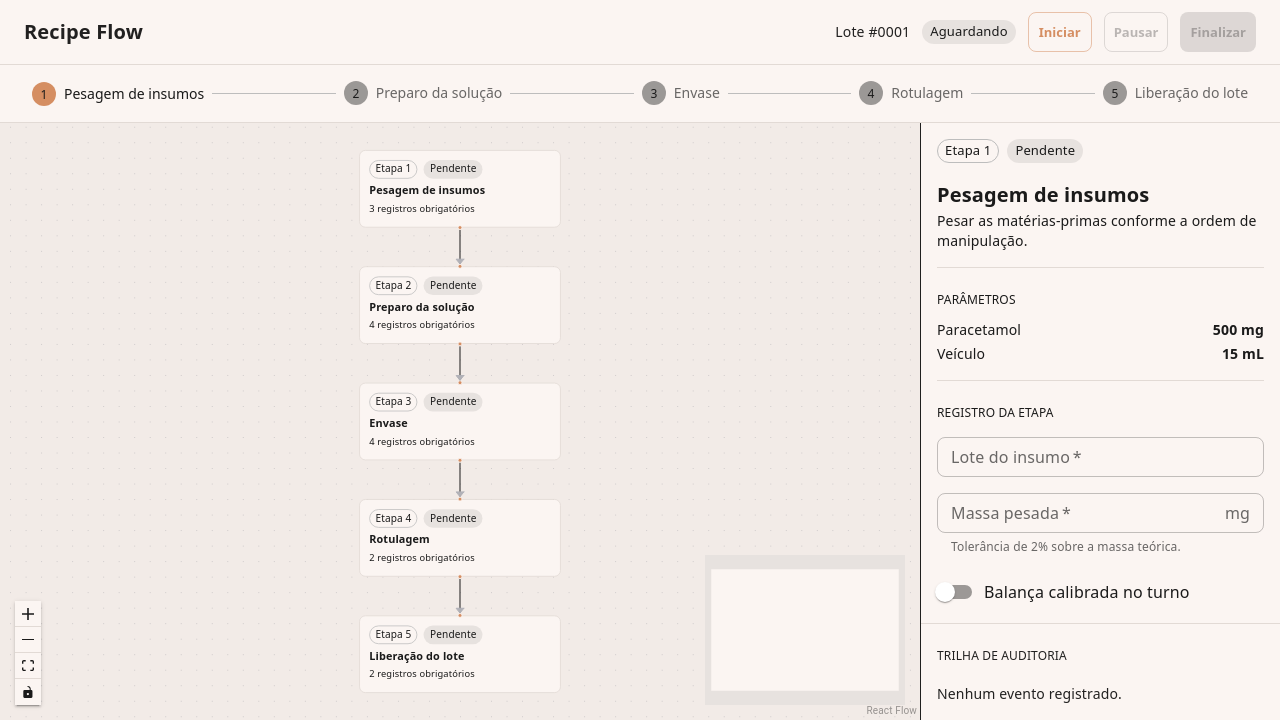
App › pausa e finaliza o lote pelas ações do cabeçalho
Click the button "Iniciar".
click(1060, 32)  # box [1028,12,1092,52]
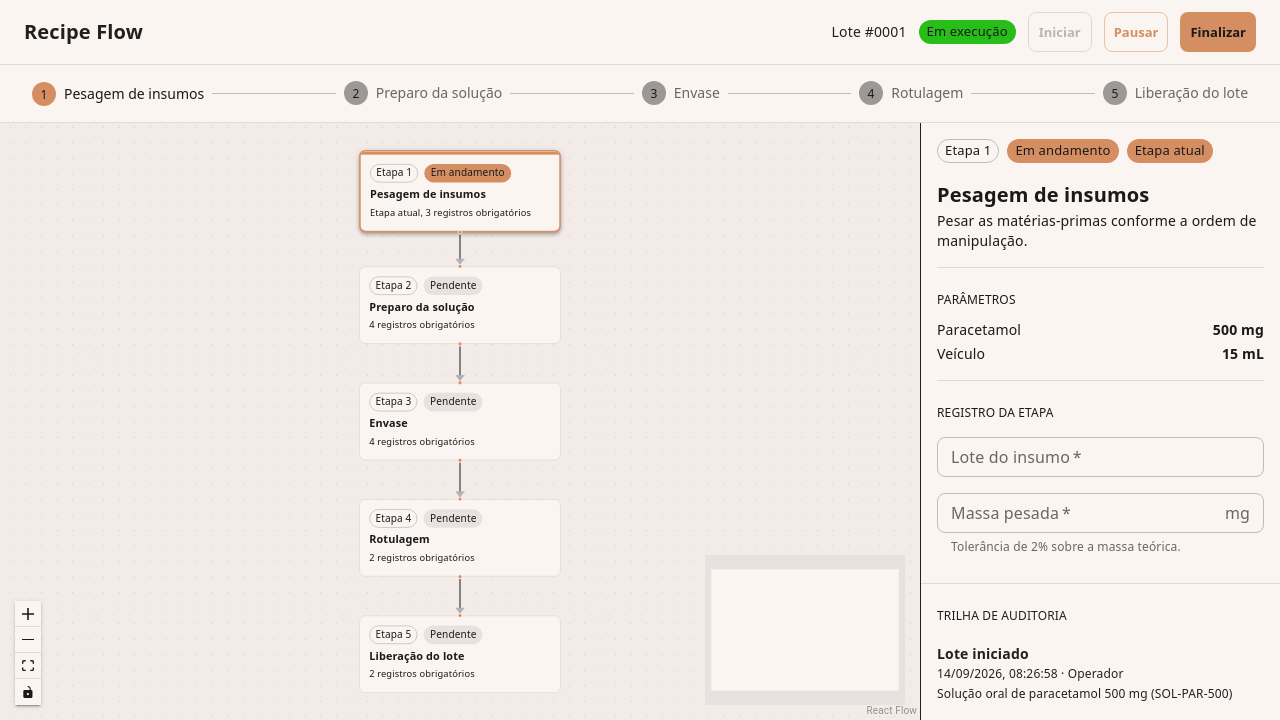
expect the text "Em execução" is shown: met, box [927,22,1008,40]
Click the button "Pausar".
click(1136, 32)  # box [1104,12,1168,52]
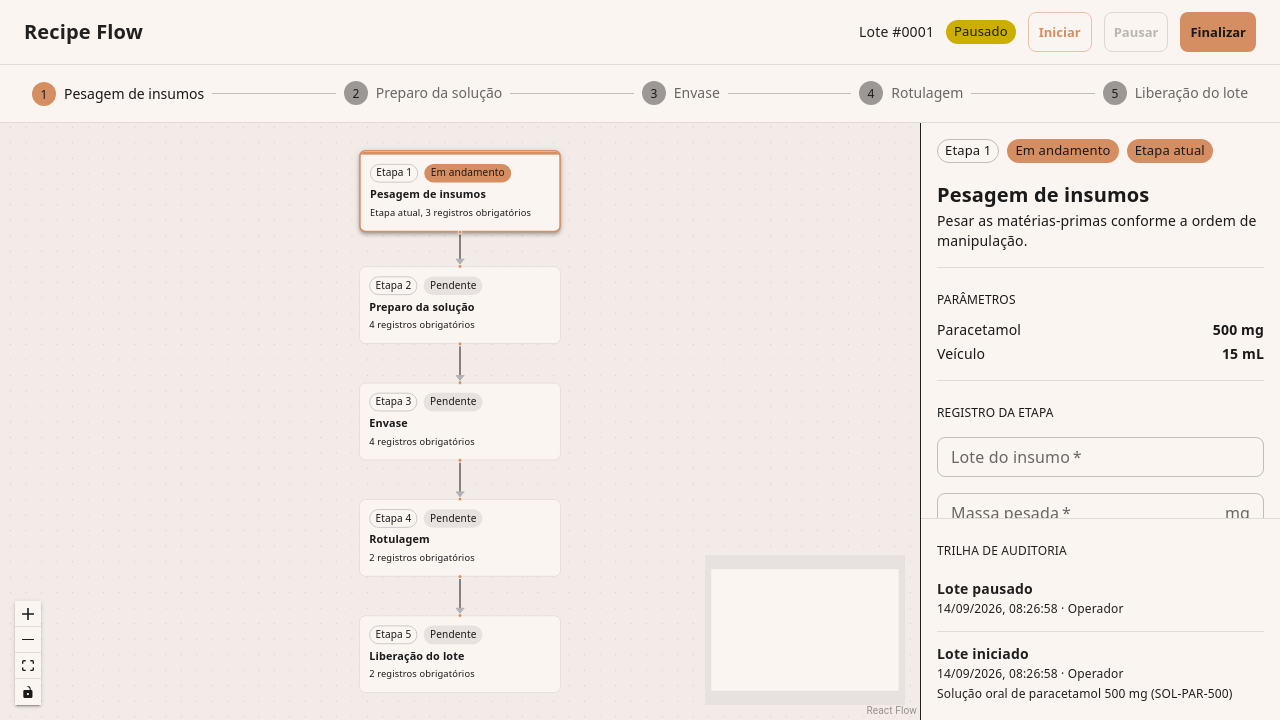
expect the text "Pausado" is shown: met, box [954,22,1008,40]
Click the button "Finalizar".
click(1218, 32)  # box [1180,12,1256,52]
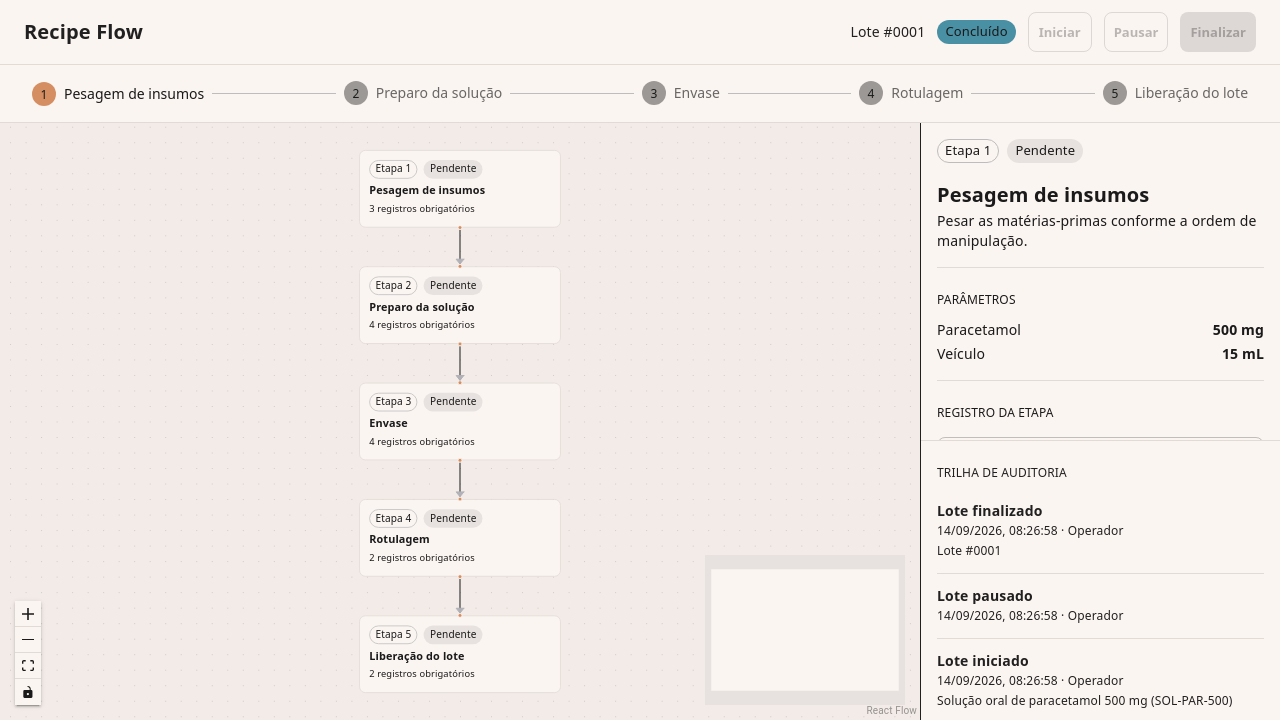
expect the text "Concluído" is shown: met, box [945,22,1008,40]
